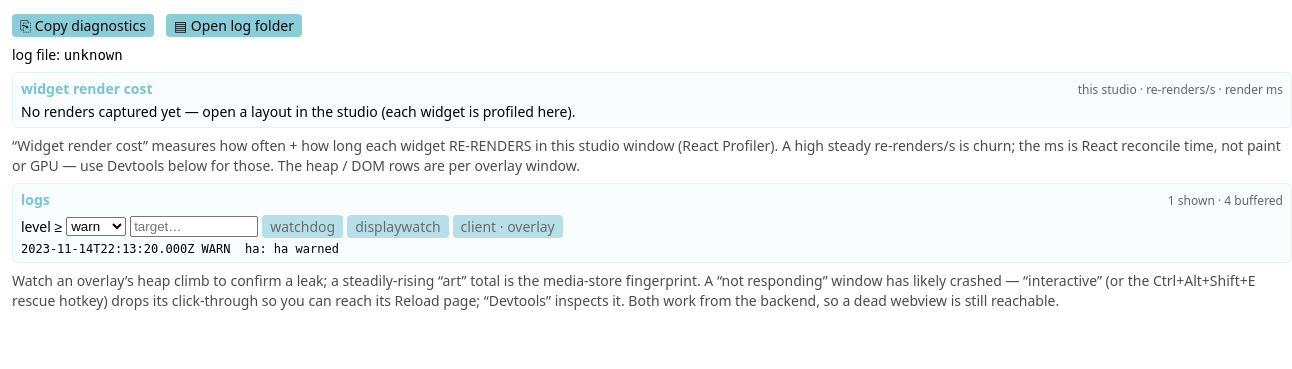
DiagnosticsPanel logs pane › the target text filter matches targets and clears any chip
expect the text "2023-11-14T22:13:20.000Z WARN ha: ha warned" is shown: met, box 21,242 -> 339,256
Select "trace" in the dropdown named "Minimum log level": coordinates (96, 227) 66,217 -> 126,236
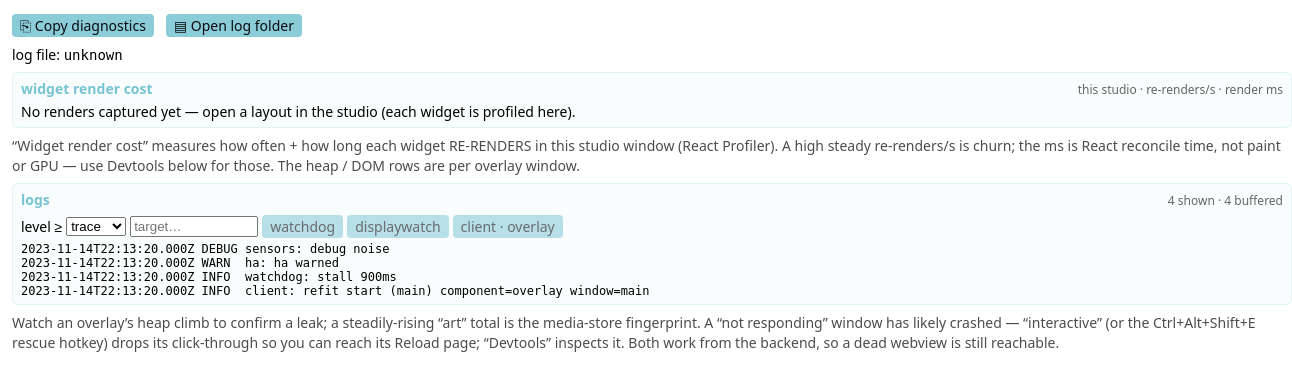
Click the button "watchdog": coordinates (303, 227) 262,215 -> 343,238
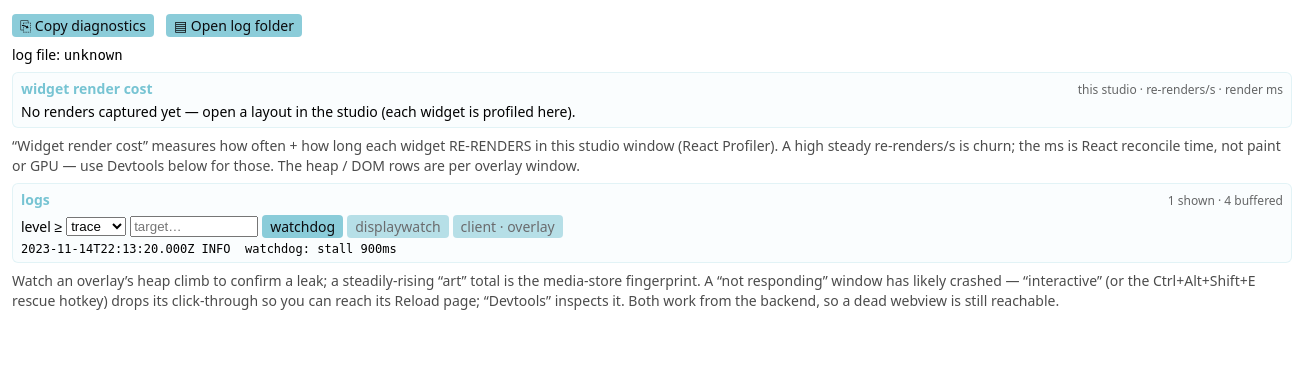
In the field named "Filter by target": coordinates (194, 227) 130,216 -> 258,237, type "ha"
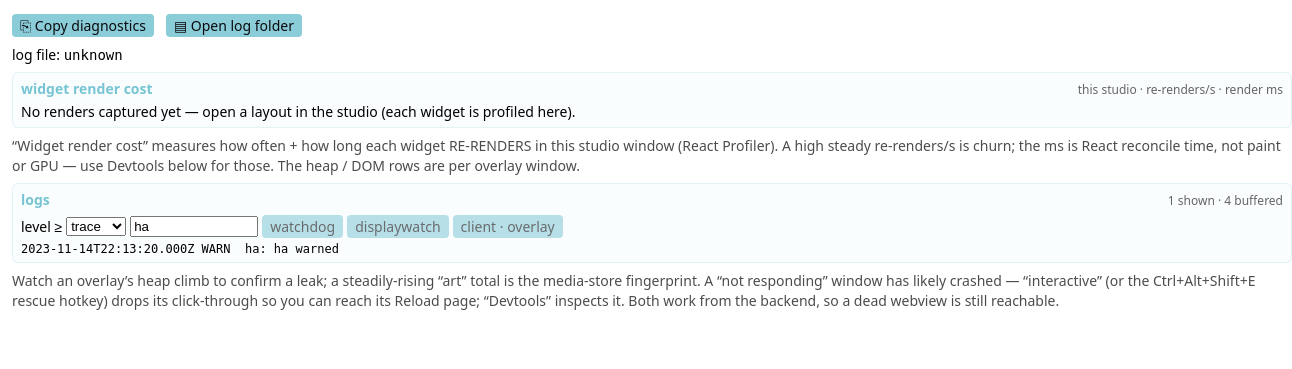
expect the text "2023-11-14T22:13:20.000Z WARN ha: ha warned" is shown: met, box 21,242 -> 339,256
expect the text "stall 900ms" is gone: met
